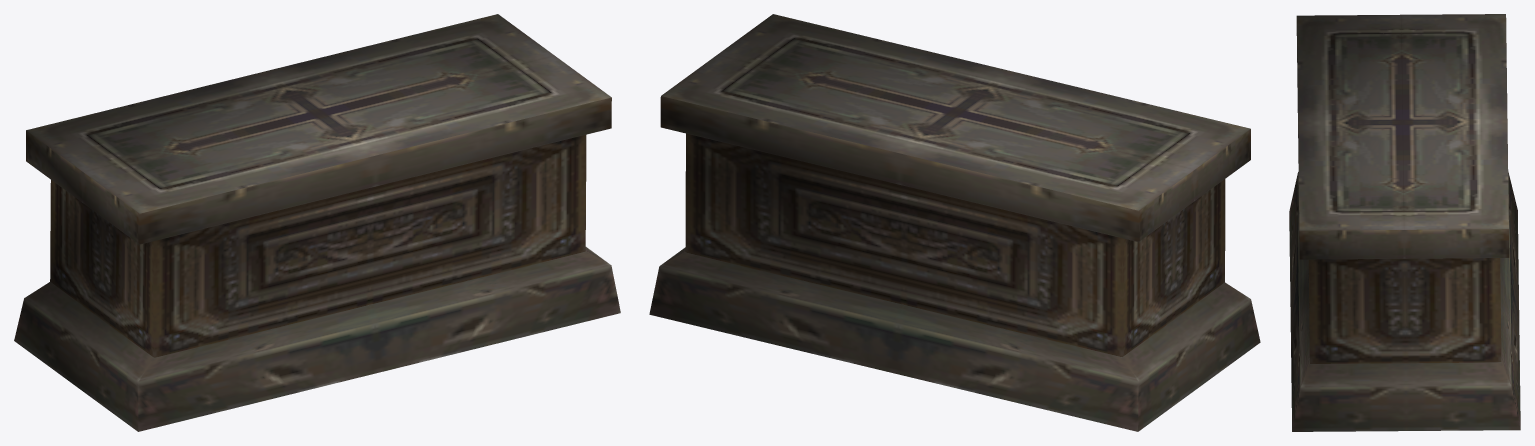
File: S_Build_Muxue045.FBX
The picture shows the model from 3 angles, left to right: view 1: azimuth 30°, elevation 25°; view 2: azimuth 150°, elevation 25°; view 3: azimuth 270°, elevation 25°; orthographic projection. The views are drawn at different scales.
Parts seen in each view (by area): view 1: S_Build_Muxue045; view 2: S_Build_Muxue045; view 3: S_Build_Muxue045.
Boxes of the visible parts, x1,y1,x2,y2 form: S_Build_Muxue045: (14,14,620,431); S_Build_Muxue045: (649,14,1260,431); S_Build_Muxue045: (1289,14,1520,431).
Bounding box in the file's own units: 382 × 170 × 162.
